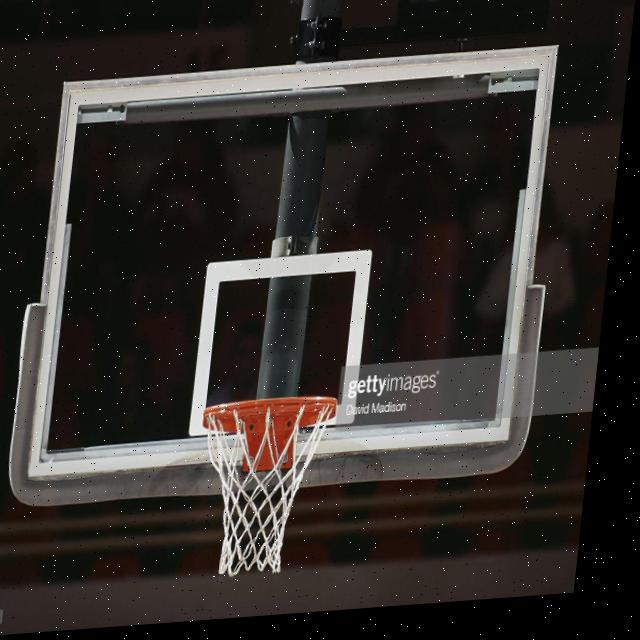hoop: (186, 393, 339, 580)
